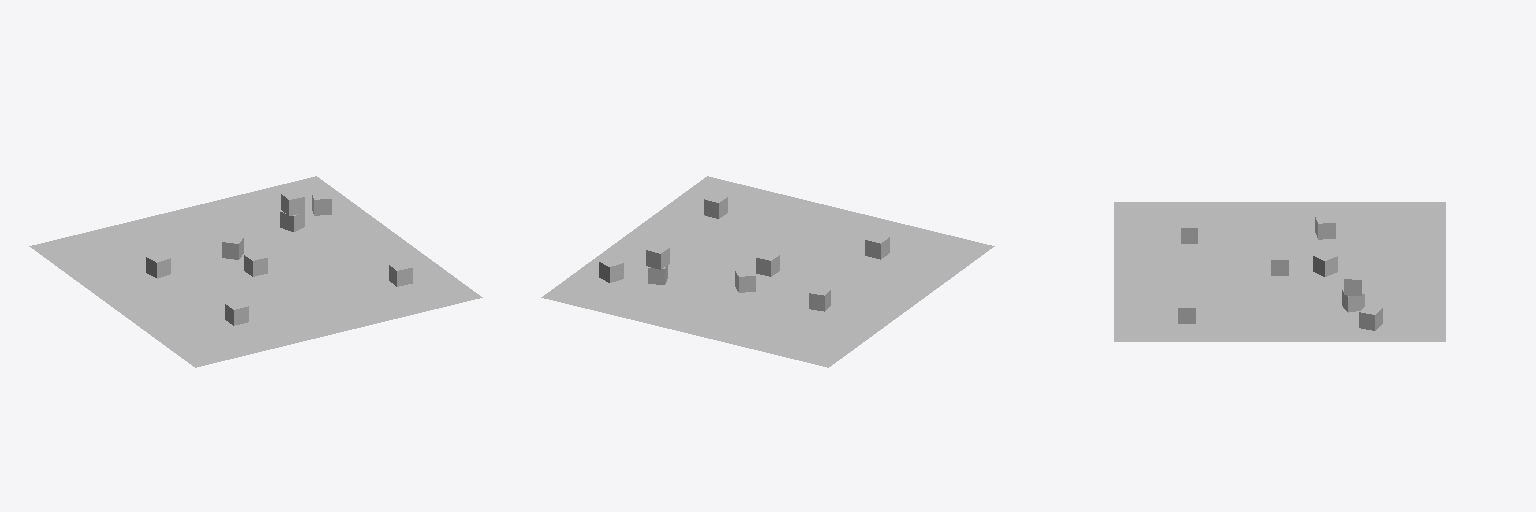
File: plane_with_cubes.obj
3 renders of one model, left to right at view 1: azimuth 30°, elevation 25°; view 2: azimuth 150°, elevation 25°; view 3: azimuth 270°, elevation 25°, orthographic.
Visible parts, largest first — view 1: Plane, Cube.001; view 2: Plane, Cube.002, Cube.007; view 3: Plane, Cube.008.
Part boxes in pixels (bbox=[...]): Plane: bbox=[29, 176, 482, 367]; Cube.001: bbox=[146, 252, 170, 278]; Plane: bbox=[541, 176, 994, 367]; Cube.002: bbox=[865, 234, 889, 259]; Cube.007: bbox=[599, 257, 623, 282]; Plane: bbox=[1114, 202, 1445, 341]; Cube.008: bbox=[1313, 251, 1337, 276].
Size of the model in its own units: 37.37 by 4 by 37.37.